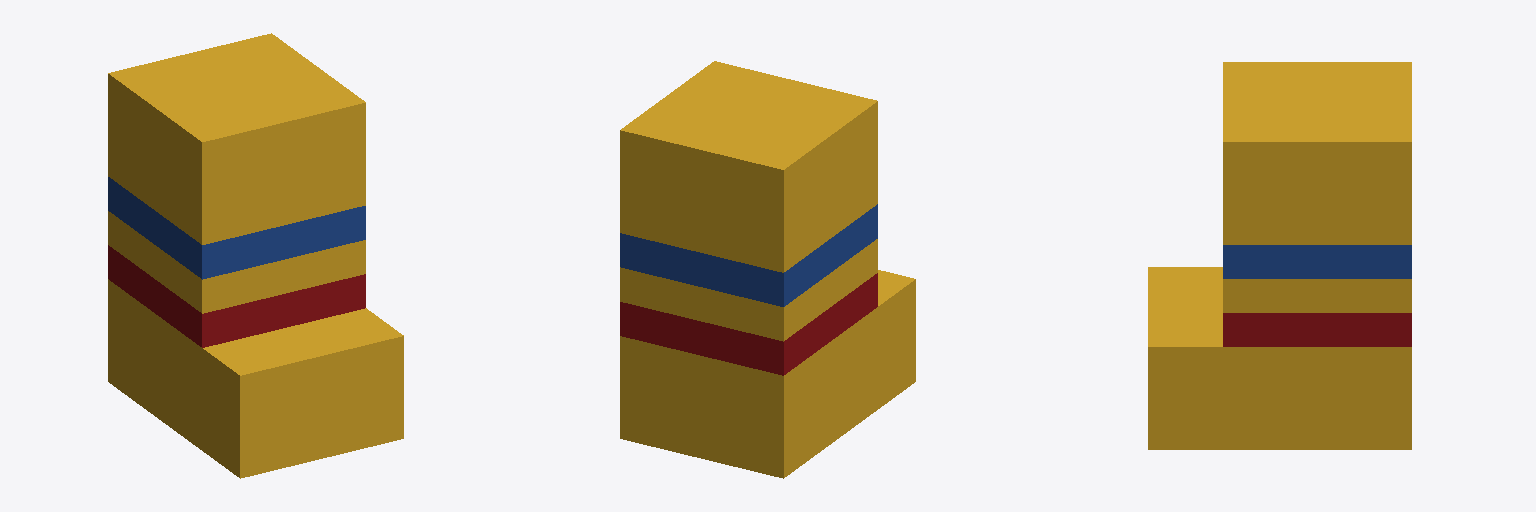
3 renders of one model, left to right at view 1: azimuth 30°, elevation 25°; view 2: azimuth 150°, elevation 25°; view 3: azimuth 270°, elevation 25°, orthographic.
Parts seen in each view (by area): view 1: object 1; view 2: object 1; view 3: object 1.
Boxes of the visible parts, <box> form: object 1: <box>108,33,403,478</box>; object 1: <box>620,61,915,478</box>; object 1: <box>1148,62,1411,449</box>.
Size of the model in its own units: 0.5 by 0.9 by 0.7.
1 materials, 1 textured.